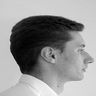ear: (38, 41, 62, 66)
